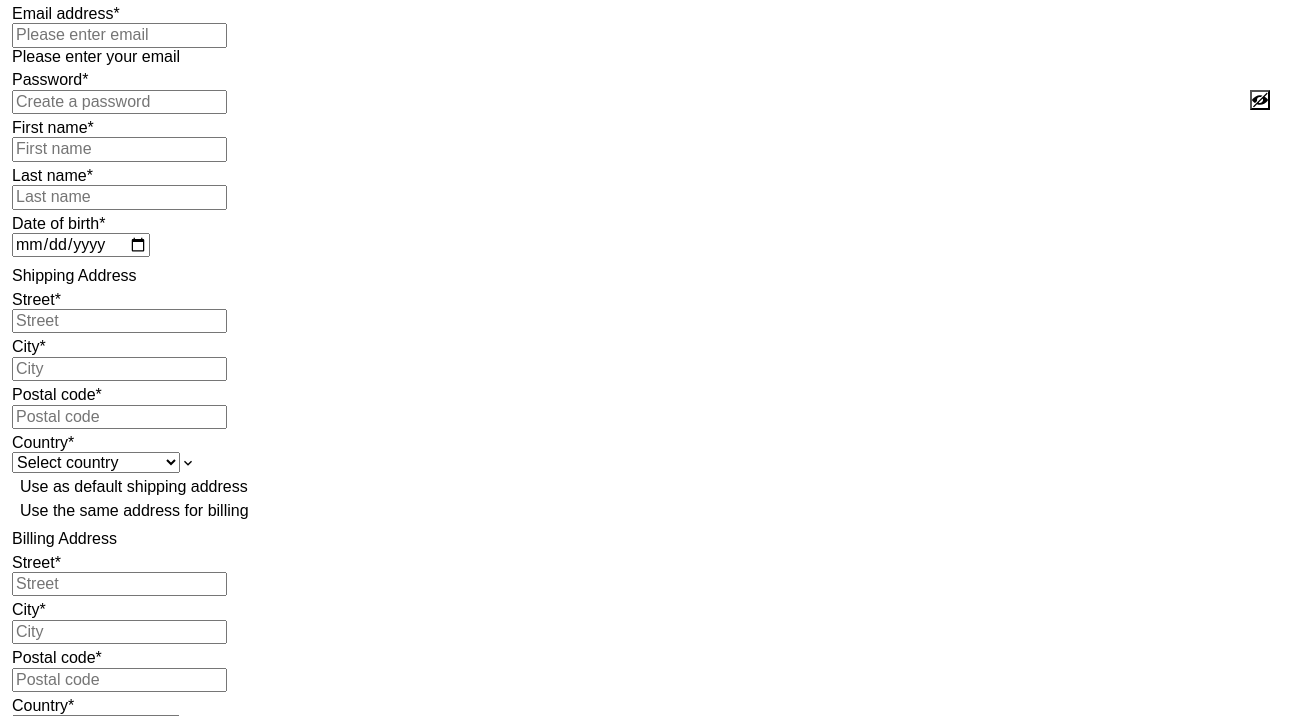
Test: SignUpForm › should say if password contains spaces
The image size is (1292, 716).
Type "invalid password" into the password field with placeholder "Create a password" at (120, 102), box 12,90 -> 227,114
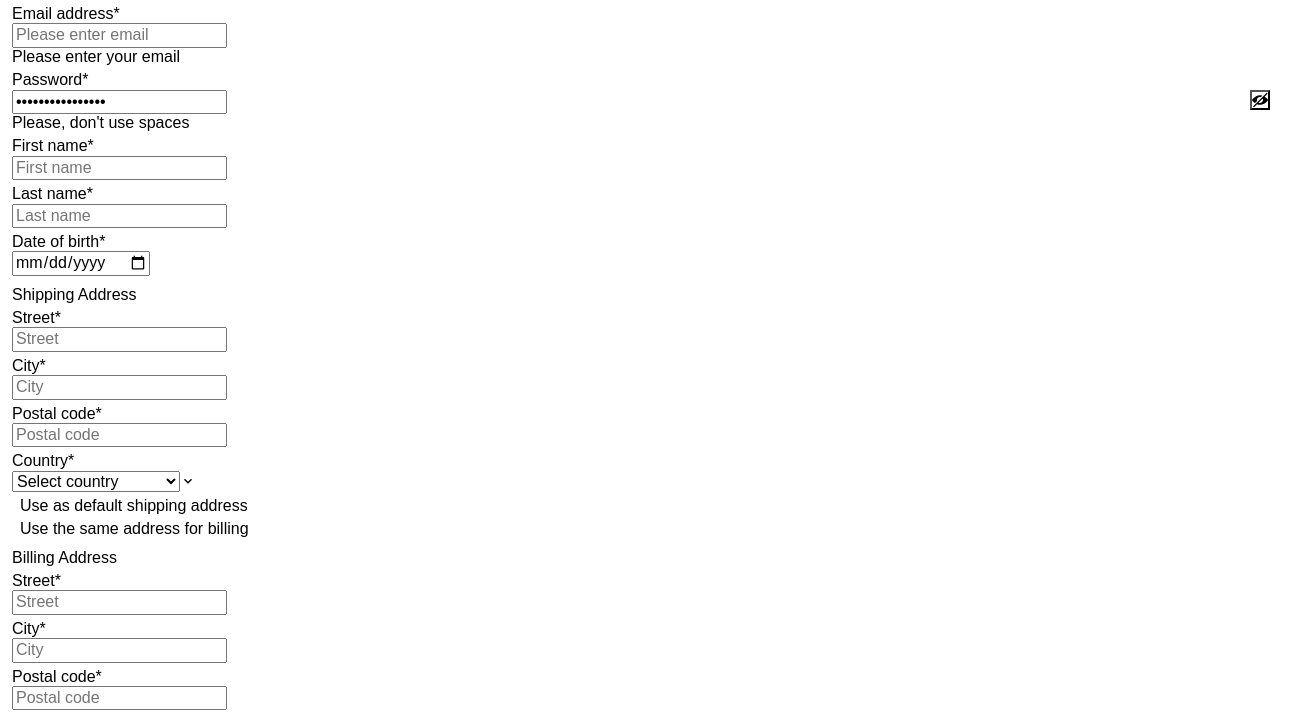
Expected: the text "Please, don't use spaces" is shown, 12,114 -> 189,131
